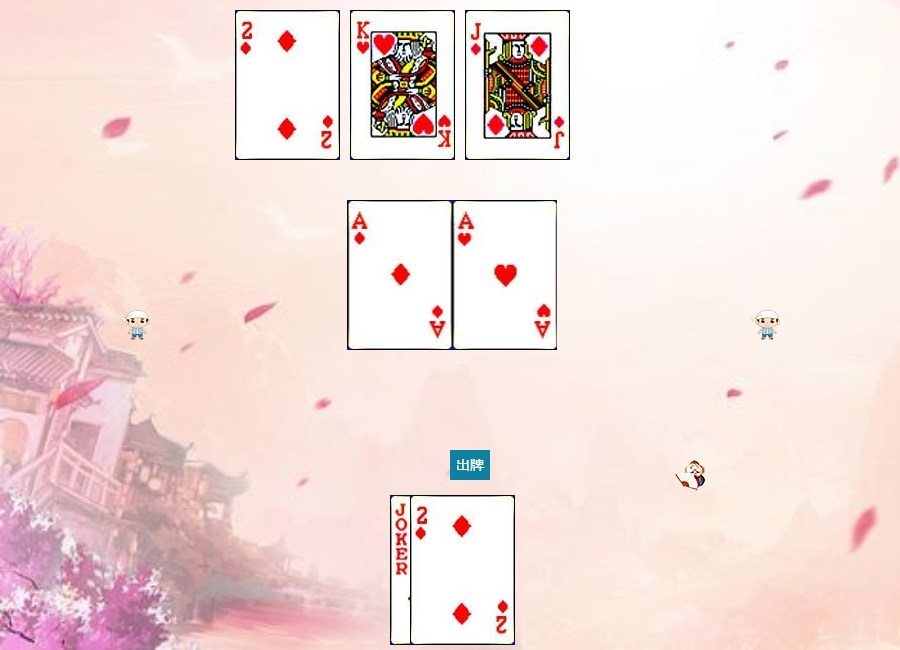11~1: (465, 10, 570, 160)
13~3: (350, 10, 455, 160)
14~1: (348, 200, 453, 350)
14~3: (453, 200, 558, 350)
15~1: (235, 10, 340, 160), (410, 495, 515, 645)
18~4: (390, 495, 495, 645)
